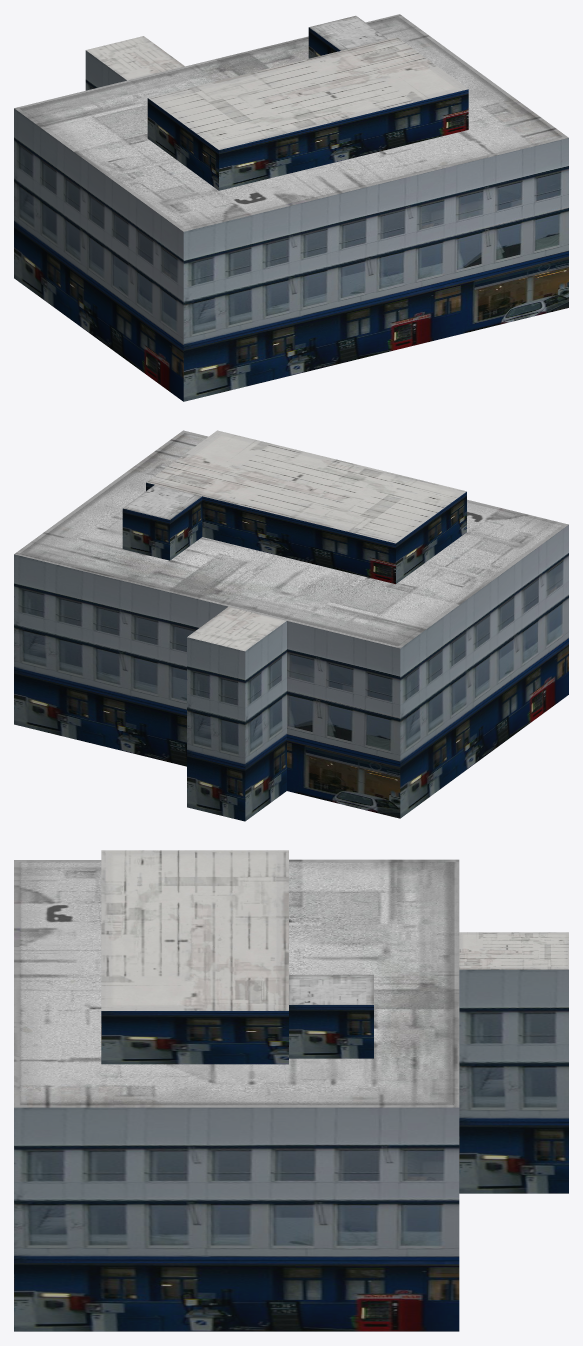
3 renders of one model, top to bottom at view 1: azimuth 30°, elevation 25°; view 2: azimuth 150°, elevation 25°; view 3: azimuth 270°, elevation 25°, orthographic. The views are drawn at different scales.
Visible parts, largest first — view 1: FacadeTexture, FlatRoofTexture (×2); view 2: FacadeTexture, FlatRoofTexture (×2); view 3: FacadeTexture, FlatRoofTexture (×2).
Part boxes in pixels (x1=…): FacadeTexture: x1=14, y1=27, x2=568, y2=401; FlatRoofTexture (×2): x1=14, y1=14, x2=568, y2=231; FacadeTexture: x1=14, y1=482, x2=568, y2=821; FlatRoofTexture (×2): x1=14, y1=430, x2=568, y2=651; FacadeTexture: x1=14, y1=969, x2=568, y2=1331; FlatRoofTexture (×2): x1=14, y1=850, x2=568, y2=1107.
Size of the model in its own units: 898 by 468 by 849.
Materials: 3 (3 with a texture image).
